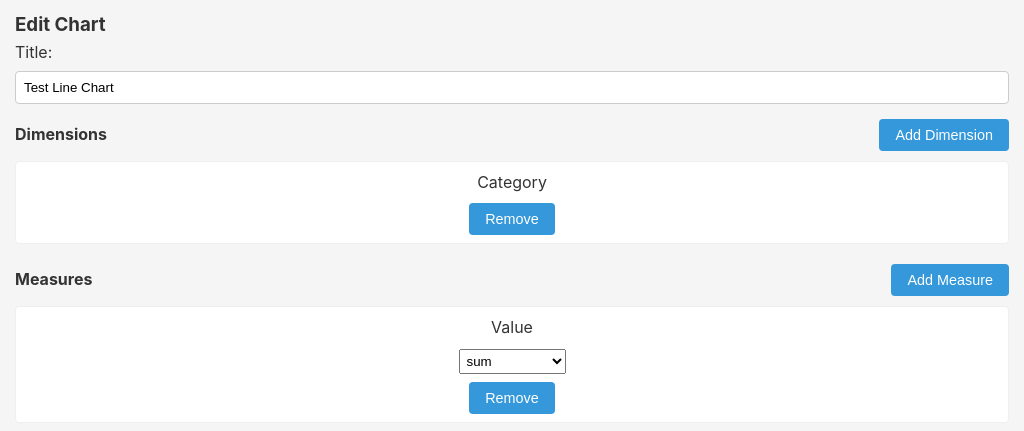
Scenario: ChartEditor Component › should show available fields for dimensions
Note: Mở dropdown để thêm dimension
Click the button with test id "add-dimension-button".
click(944, 134)  # box 879,118 -> 1009,150
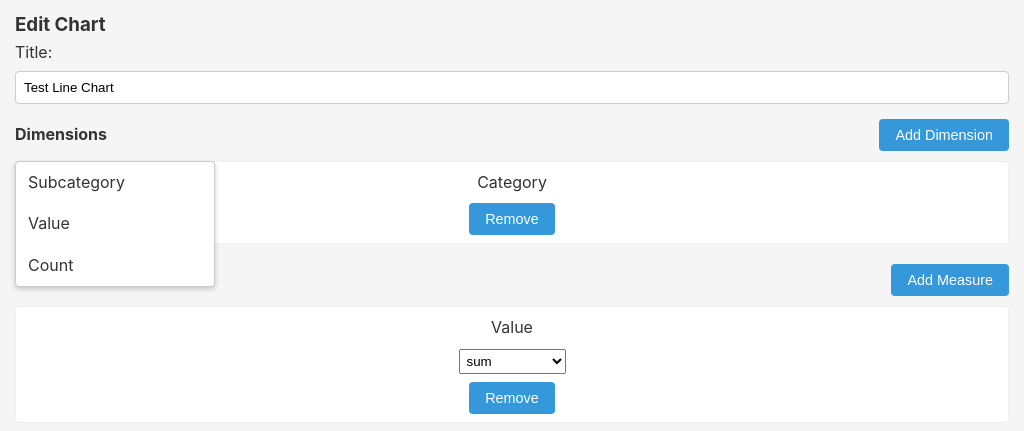
Result: the text "Subcategory" is shown at 28,172 -> 125,192
